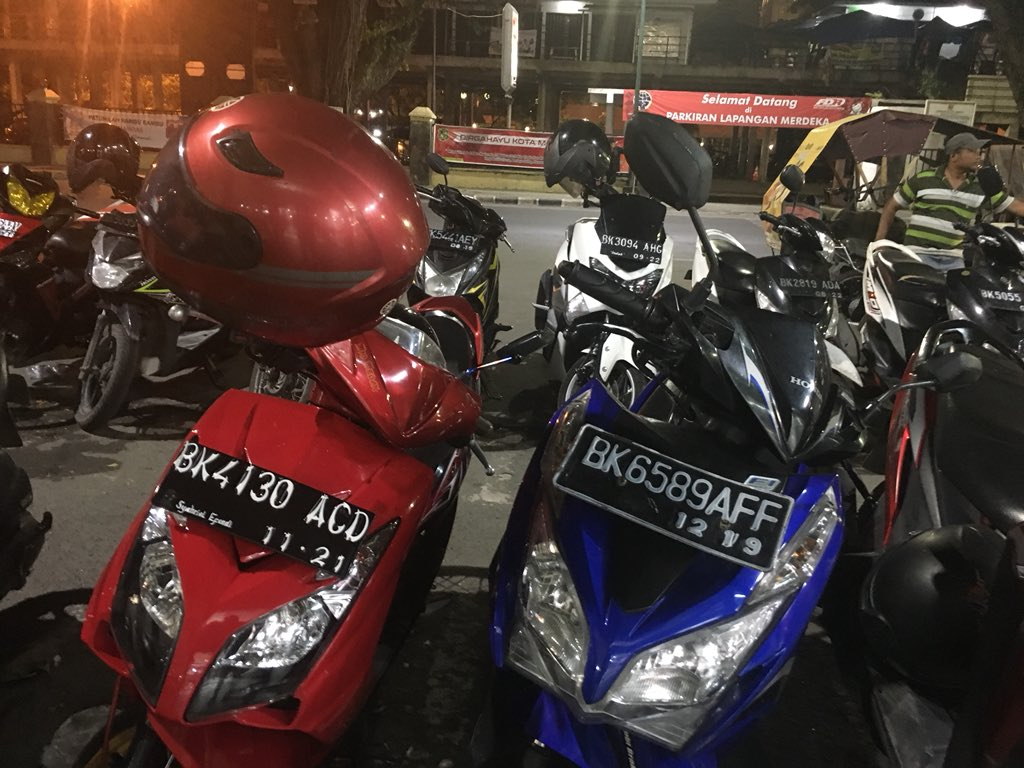plate: (572, 415, 785, 568), (168, 437, 369, 575)
